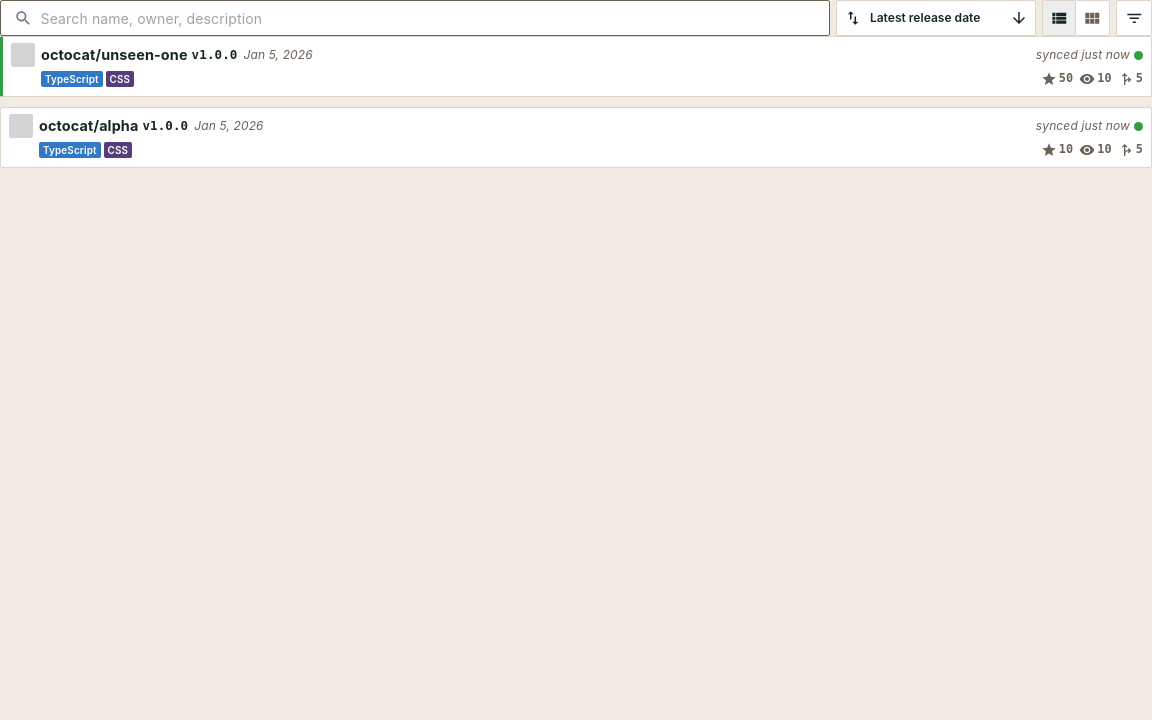
SearchFilterBar + FilterDrawer (client-side) › a status=unseen filter condition narrows the list and badges the funnel
Expected: the link "octocat/alpha" is shown, [39,116,138,136]
Click the button named "open filters" at (1134, 18), box [1116,0,1151,36]
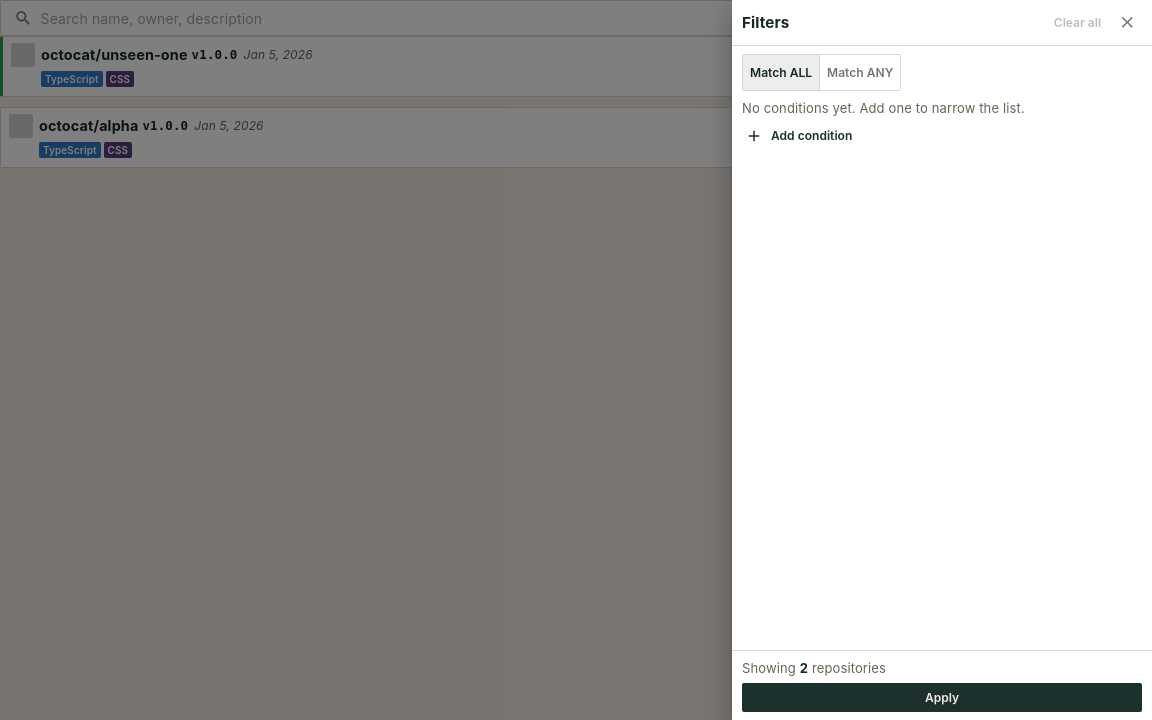
Click the button "Add condition" at (800, 136), box [742,121,857,150]
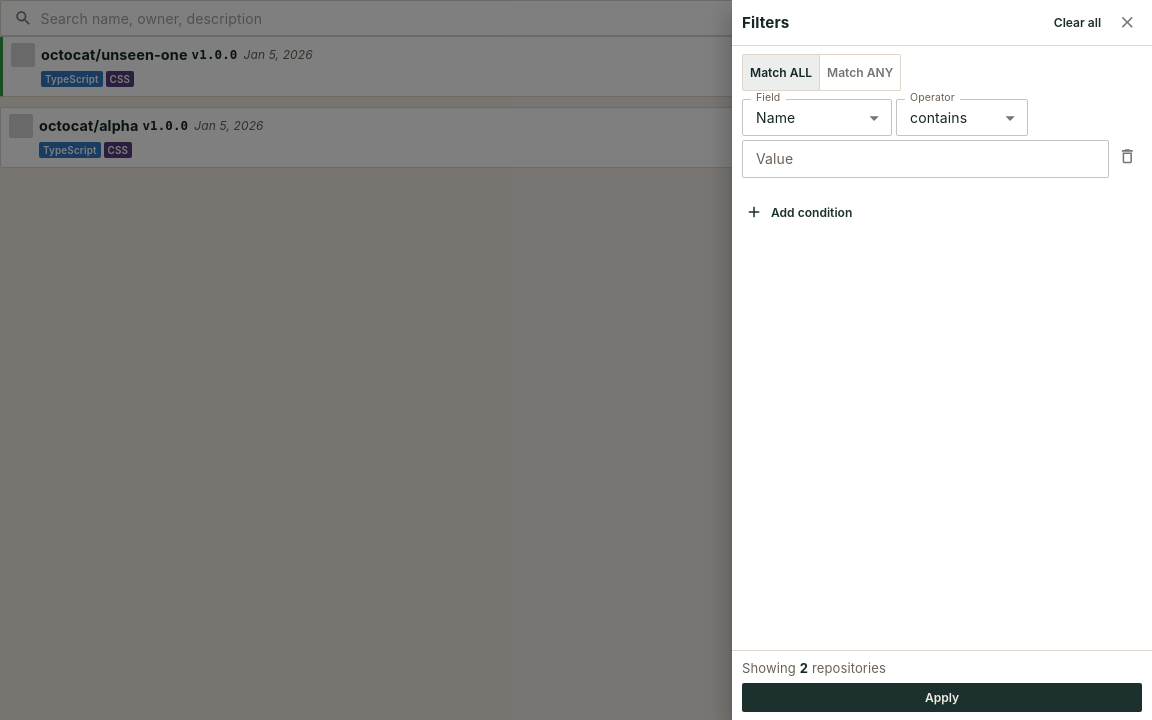
Note: Switch the field to Status (value select defaults to "unseen").
Click the dropdown named "field" at (776, 117), box [756,109,795,126]
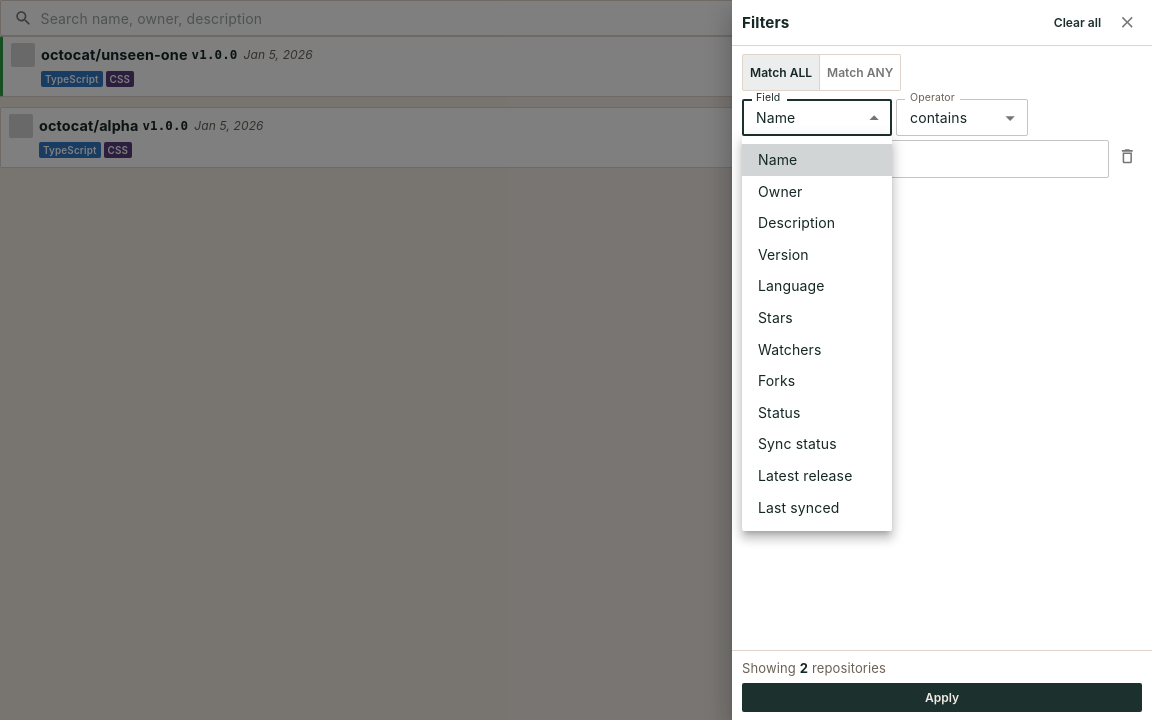
Click the option "Status" at (779, 412), box [758,404,800,421]
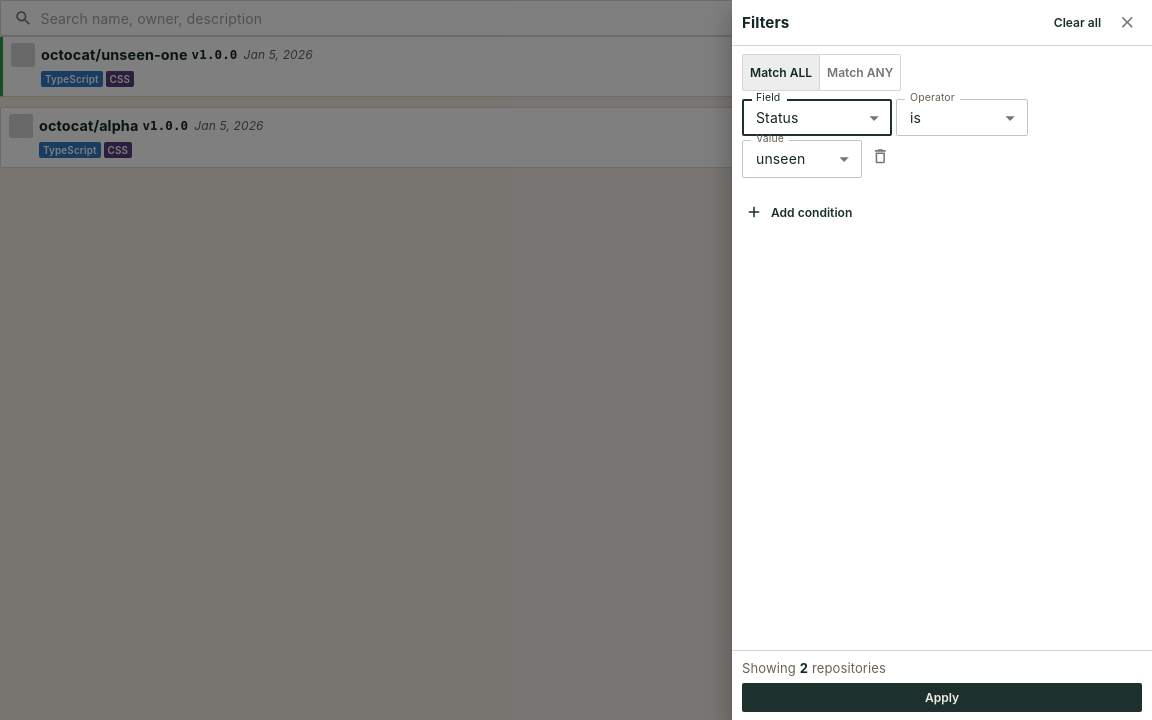
Note: Filtering is deferred — nothing changes until "Apply" commits the draft.
Click the button with test id "apply-filters" at (942, 697), box [742,683,1142,712]
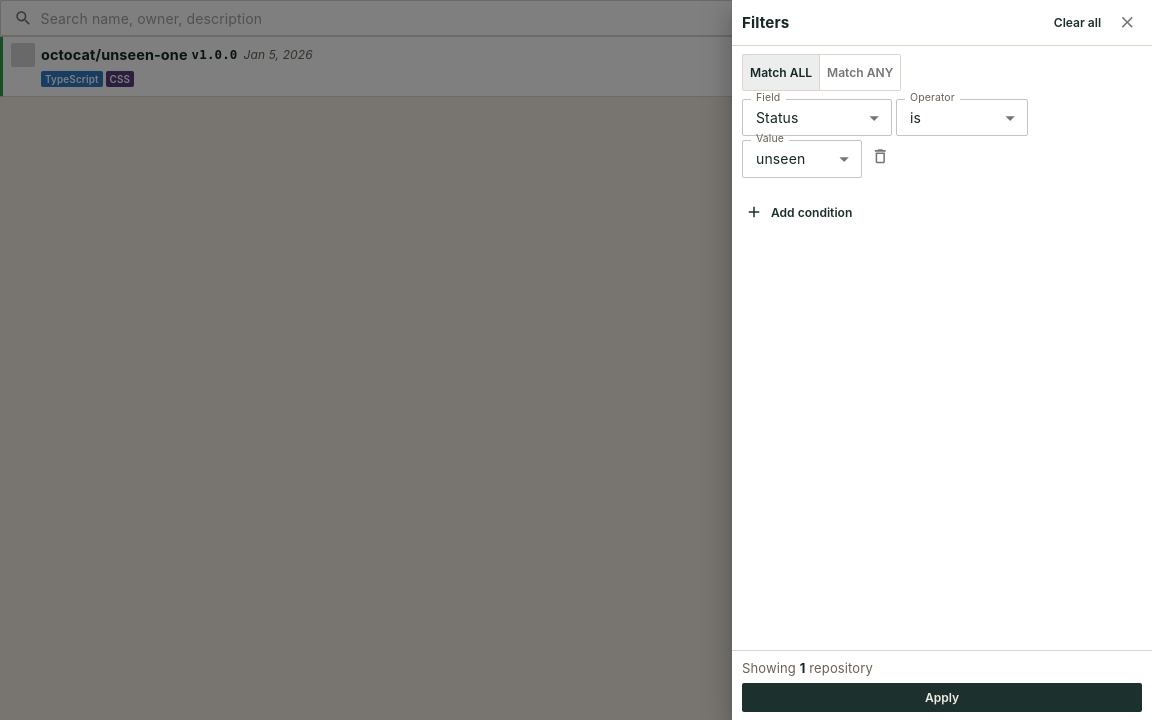
Note: Close the drawer (modal) so the underlying list is queryable again.
Press Escape
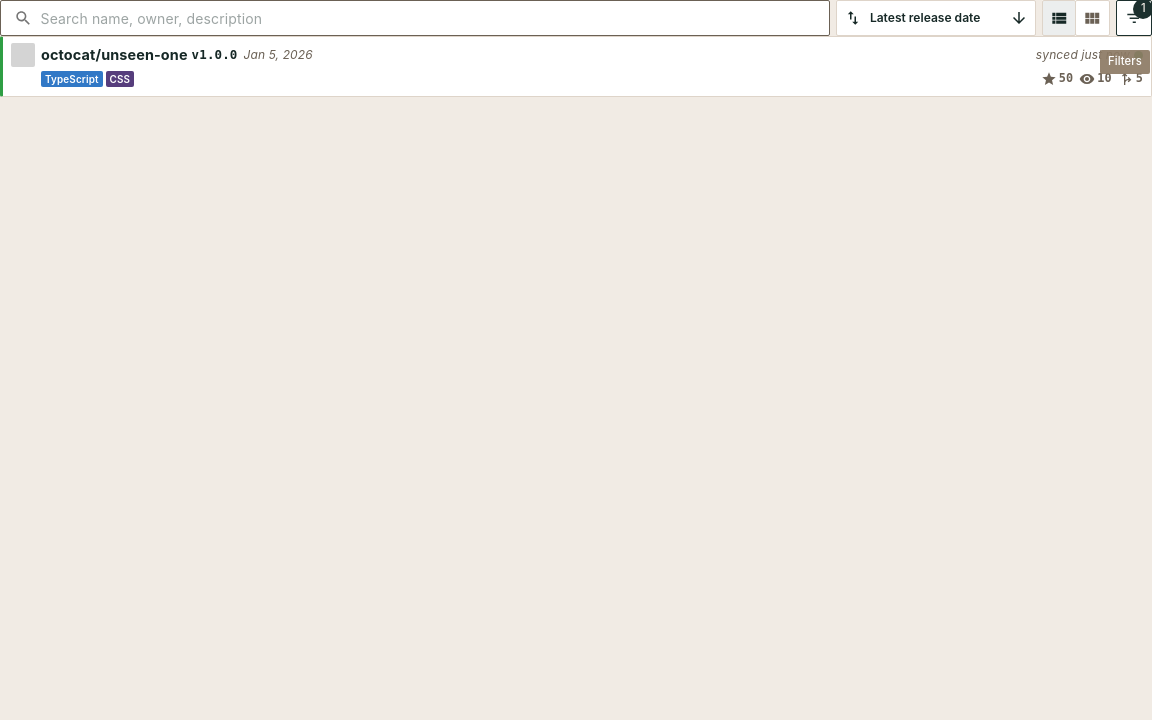
Expected: the link "octocat/alpha" is not shown
Expected: the element with test id "filter-badge" reads "1", [1141,1,1146,15]
Expected: the element with test id "filter-drawer" is gone
